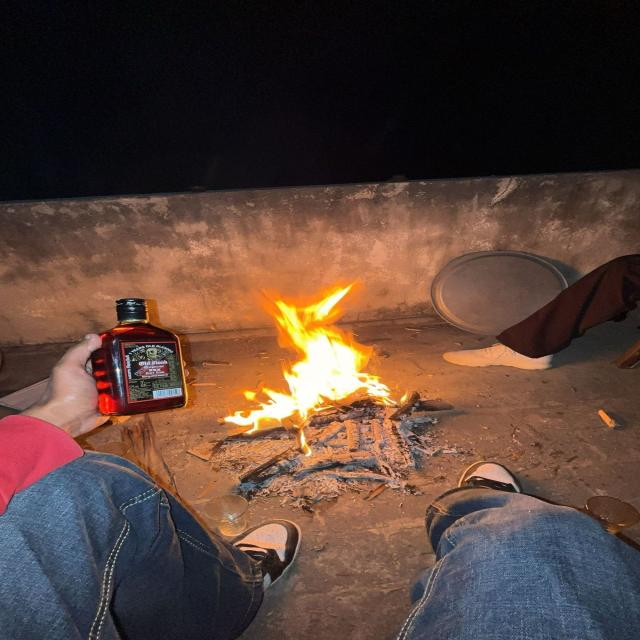fire: (224, 283, 398, 442)
